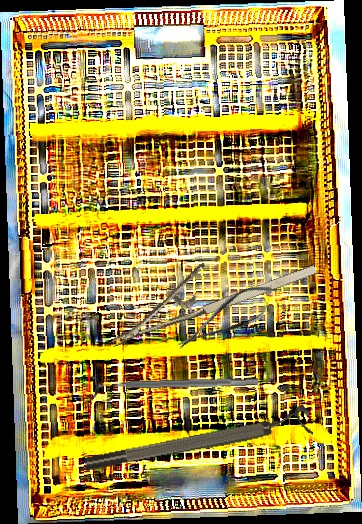Fixation Ring: (82, 404, 313, 475), (89, 369, 259, 401)
Micro Scissor: (168, 273, 287, 361)
Needle Holder: (97, 230, 319, 348)
